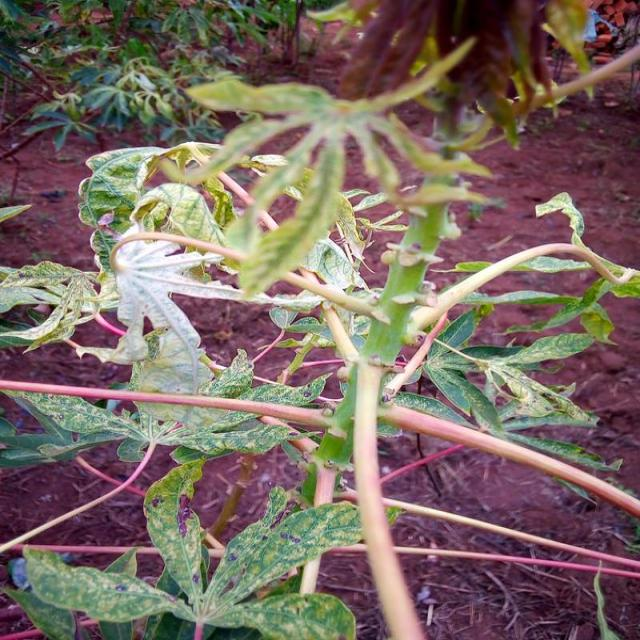Mosaico: (34, 440, 377, 640), (196, 48, 485, 265), (33, 146, 242, 350)
